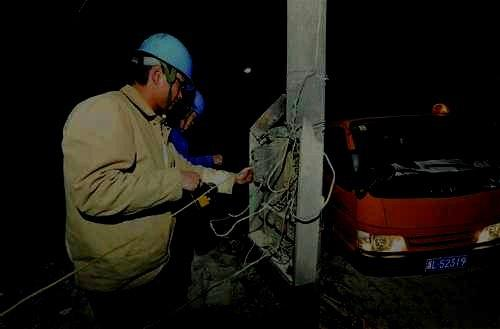helmet: (128, 34, 192, 112), (176, 89, 204, 132)
